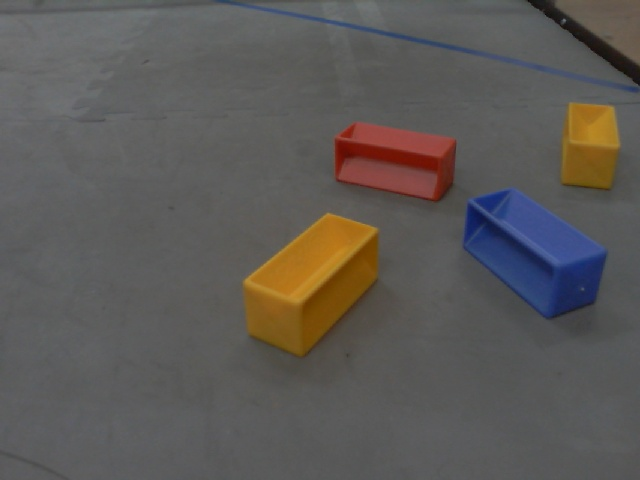BlueSample: (458, 184, 612, 324)
RedSample: (329, 120, 459, 207)
YellowSample: (244, 213, 378, 361), (555, 100, 622, 194)
